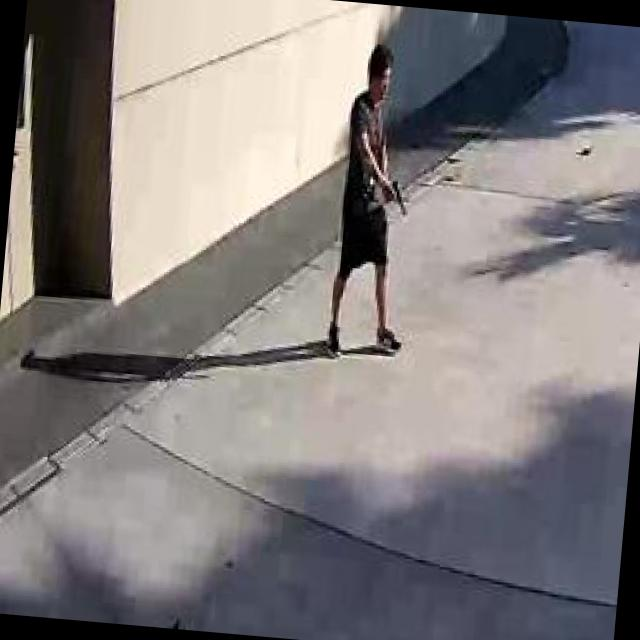Guns: (372, 164, 418, 227)
